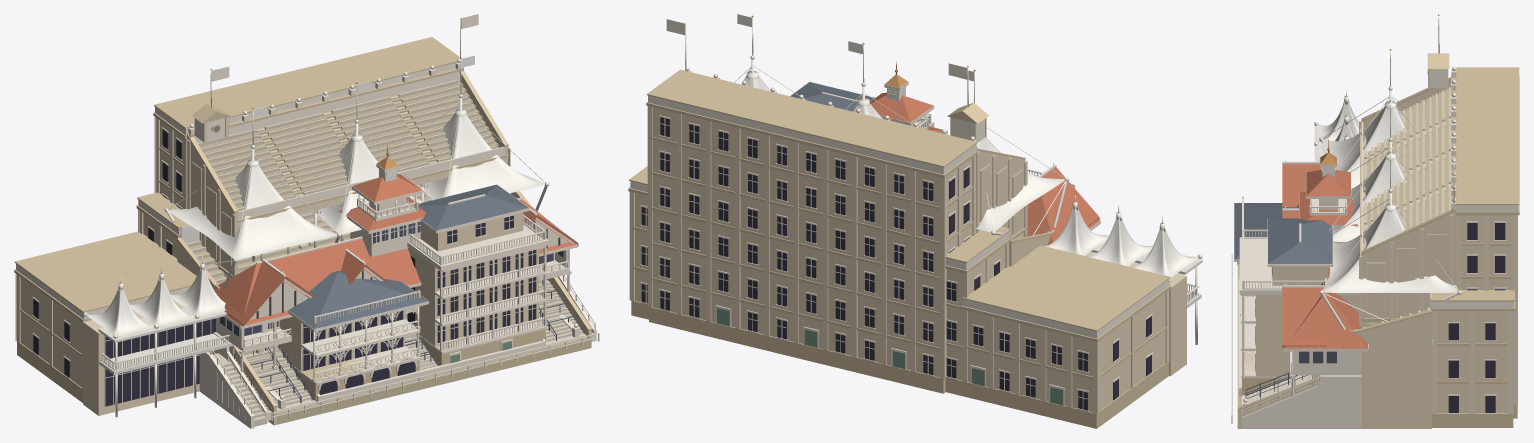
File: gen-downs-l-big_stands.glb
3 renders of one model, left to right at view 1: azimuth 30°, elevation 25°; view 2: azimuth 150°, elevation 25°; view 3: azimuth 270°, elevation 25°, orthographic. The views are drawn at different scales.
Visible parts, largest first — view 1: park_tent_stand, park_roof_terrace_stand, york_pavilions, gen_pavilion_stand_red, gen_terrace_30; view 2: park_roof_terrace_stand, park_tent_stand, gen_pavilion_stand_red, york_pavilions; view 3: park_roof_terrace_stand, park_tent_stand, gen_pavilion_stand_red, york_pavilions, gen_terrace_30.
Boxes of the visible parts, x1=… form: park_tent_stand: x1=14, y1=55, x2=591, y2=425; park_roof_terrace_stand: x1=153, y1=14, x2=579, y2=409; york_pavilions: x1=279, y1=184, x2=549, y2=403; gen_pavilion_stand_red: x1=199, y1=144, x2=599, y2=428; gen_terrace_30: x1=316, y1=339, x2=545, y2=403; park_roof_terrace_stand: x1=646, y1=19, x2=1027, y2=393; park_tent_stand: x1=628, y1=14, x2=1202, y2=428; gen_pavilion_stand_red: x1=869, y1=61, x2=1100, y2=252; york_pavilions: x1=790, y1=82, x2=1075, y2=187; park_roof_terrace_stand: x1=1242, y1=14, x2=1519, y2=418; park_tent_stand: x1=1237, y1=49, x2=1515, y2=428; gen_pavilion_stand_red: x1=1231, y1=139, x2=1368, y2=428; york_pavilions: x1=1234, y1=196, x2=1358, y2=397; gen_terrace_30: x1=1238, y1=277, x2=1241, y2=396.
Bounding box in the file's own units: 60.65 × 35.42 × 33.4.
